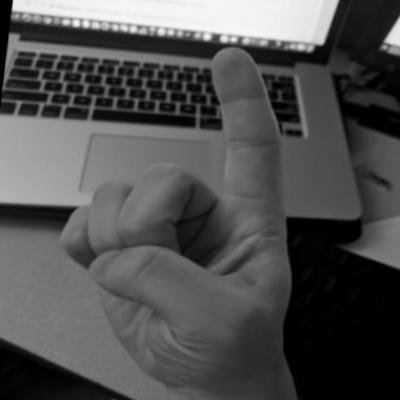hand: (39, 29, 328, 399)
